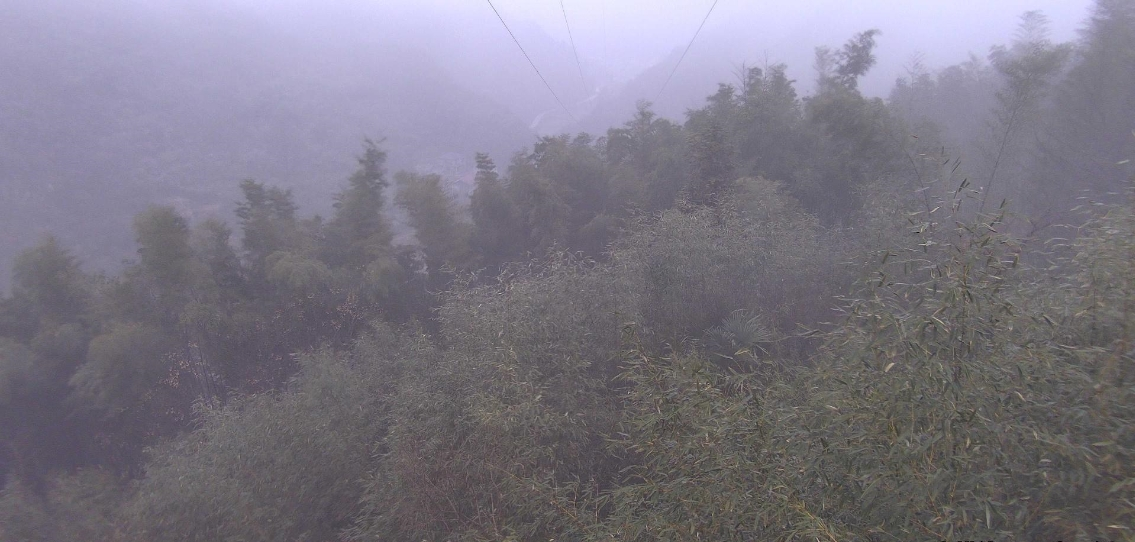山间云雾: (0, 0, 1134, 286)
